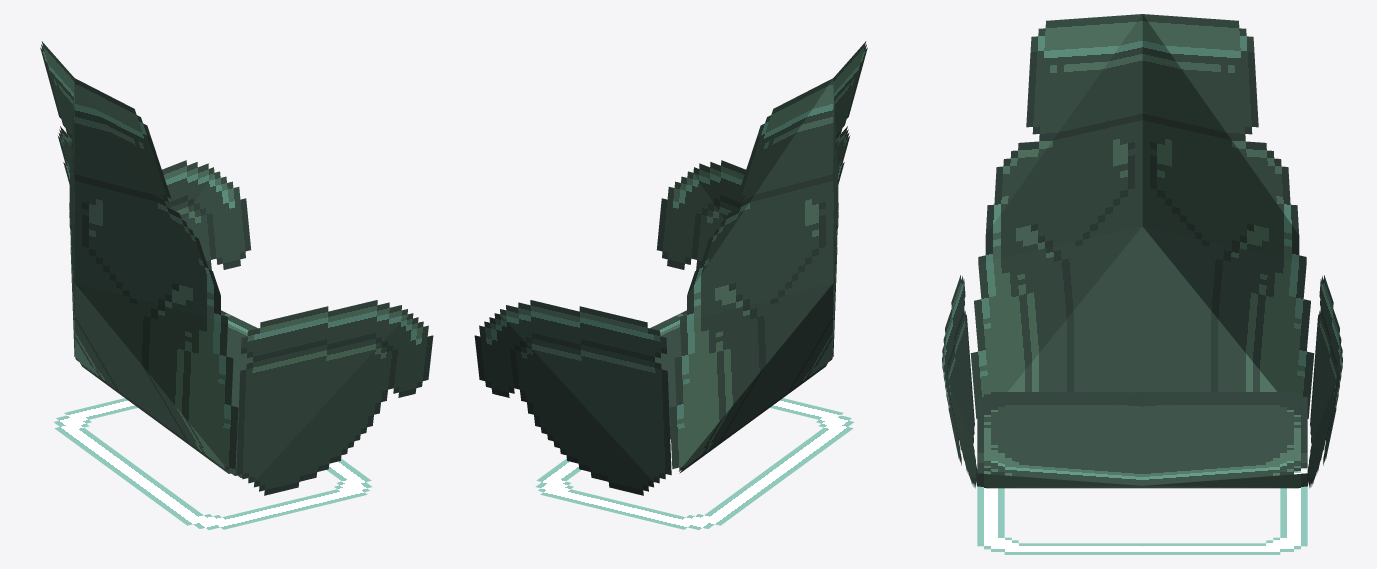
File: chair.gltf
3 renders of one model, left to right at view 1: azimuth 30°, elevation 25°; view 2: azimuth 150°, elevation 25°; view 3: azimuth 270°, elevation 25°, orthographic. The views are drawn at different scales.
Parts seen in each view (by area): view 1: chair; view 2: chair; view 3: chair.
Part boxes in pixels (bbox=[...]): chair: bbox=[40, 41, 433, 529]; chair: bbox=[474, 41, 867, 529]; chair: bbox=[942, 14, 1342, 554].
Size of the model in its own units: 1.44 by 2.12 by 2.
1 material, 1 textured.
